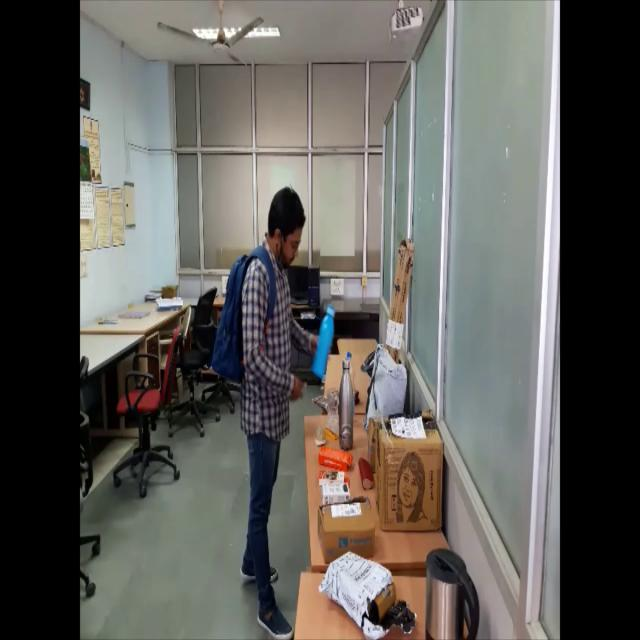normal: (210, 177, 336, 640)
